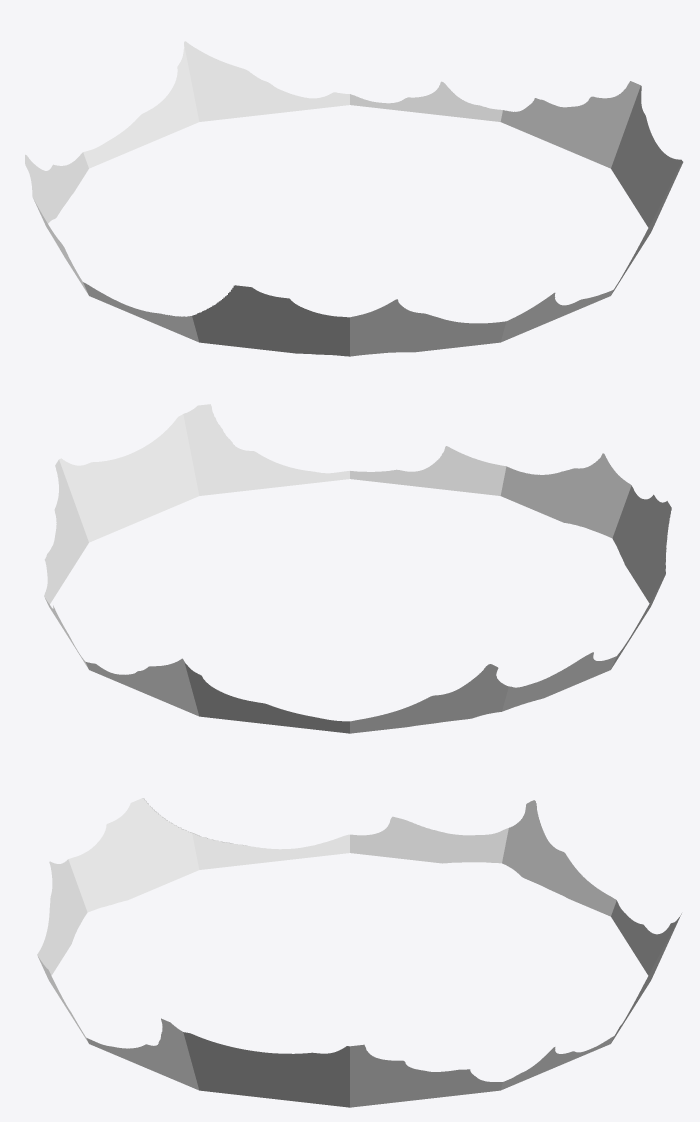
File: SmokeMesh.fbx
The picture shows the model from 3 angles, top to bottom: view 1: azimuth 30°, elevation 25°; view 2: azimuth 150°, elevation 25°; view 3: azimuth 270°, elevation 25°; orthographic projection.
Visible parts, largest first — view 1: pSphere4; view 2: pSphere4; view 3: pSphere4.
Boxes of the visible parts, box(x1,y1,x2,y2) form: pSphere4: box(25, 41, 683, 356); pSphere4: box(44, 404, 671, 733); pSphere4: box(37, 798, 681, 1107).
Size of the model in its own units: 1.93 by 0.2412 by 1.93.
